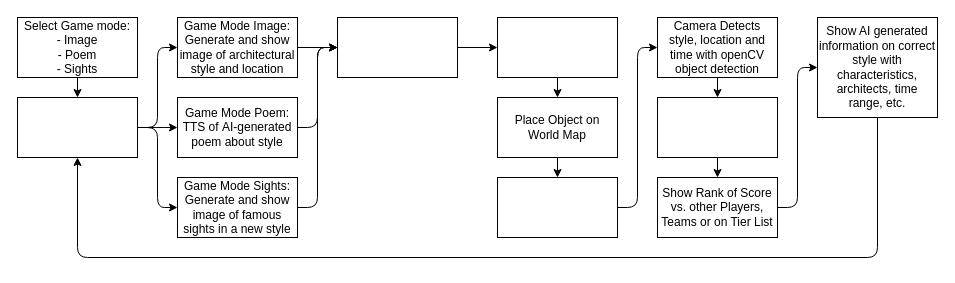
This 955x283 diagram has some shape labels left out. Each missing label, with the centre of its shape:
"Compute Correctnes Score" goes at (x=717, y=127).
"Random Architectural Style and Location" goes at (x=77, y=127).
"Select 3D printed Object for Style (and Site)" goes at (x=557, y=47).
"Select Time on Architectonic Calendar" goes at (x=557, y=207).
"User guesses: Style, Location, Time, (Site)" goes at (x=397, y=47).
